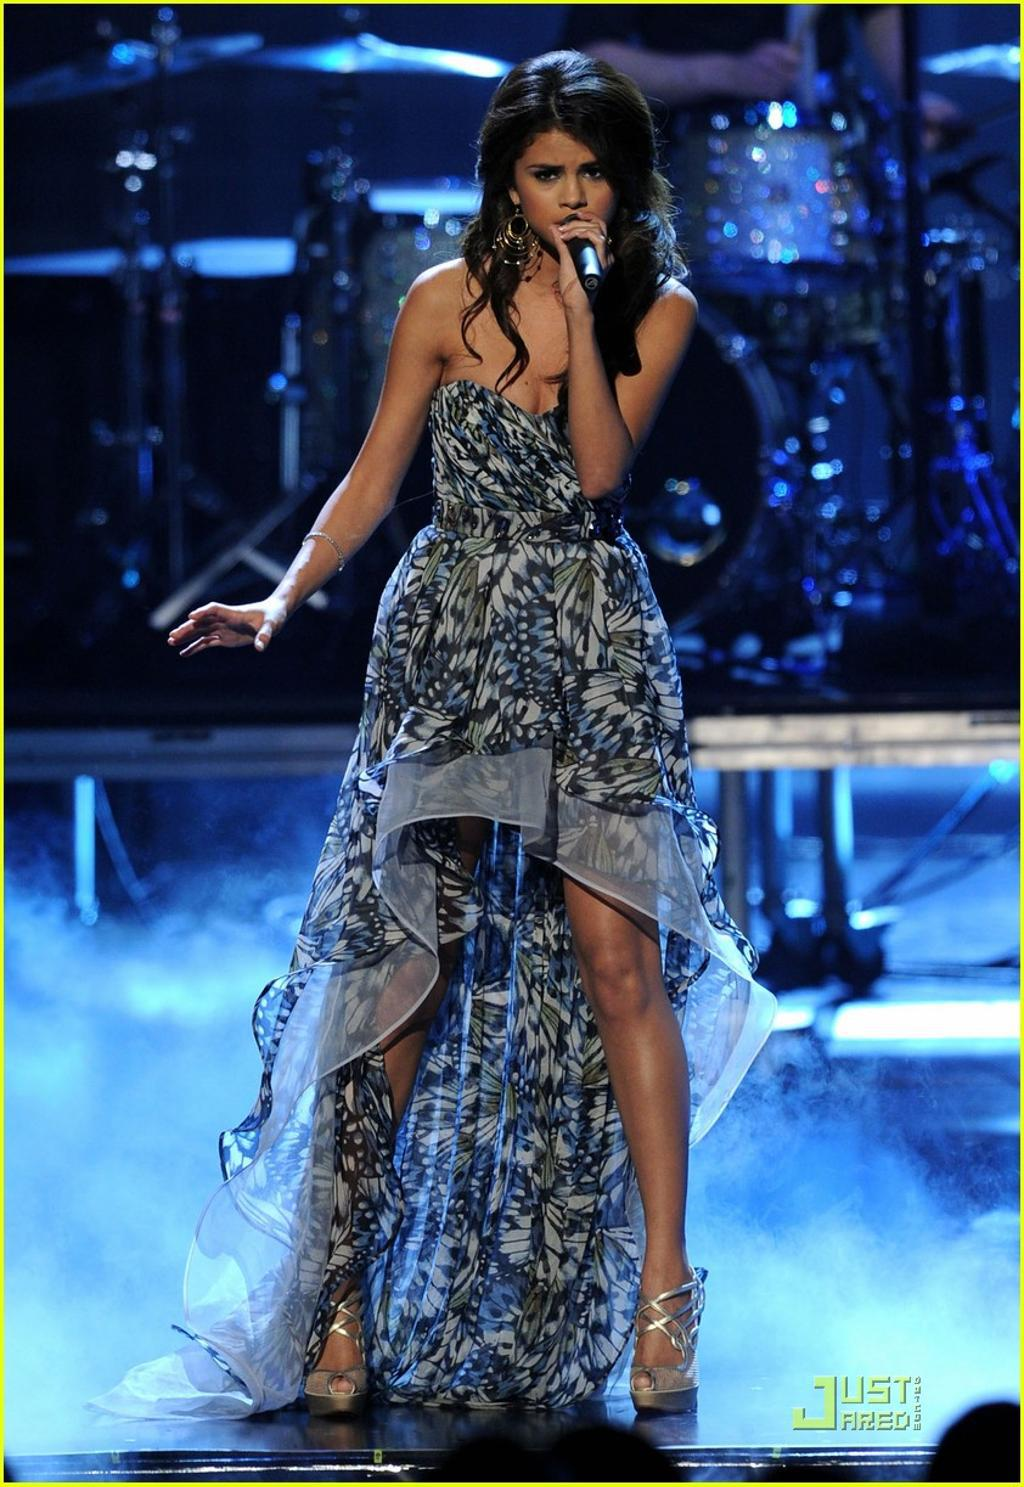face: (512, 123, 628, 248)
